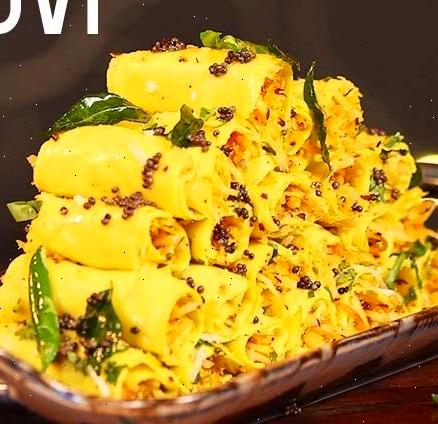khandvi: (3, 21, 438, 410)
